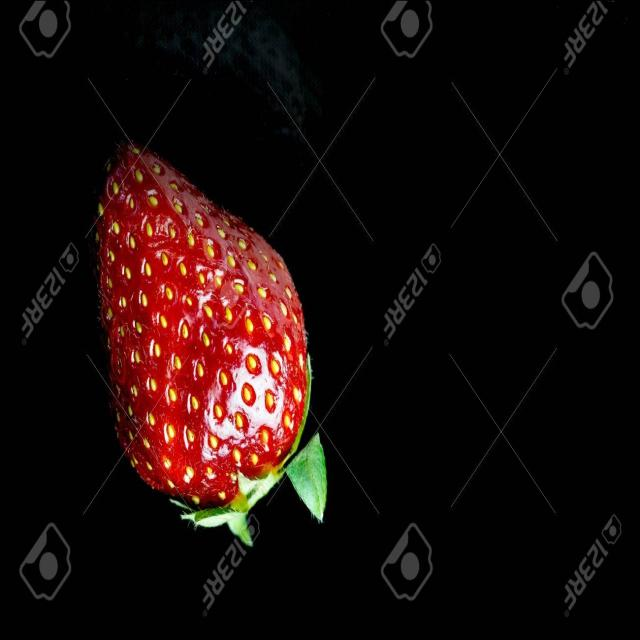strawberry: (87, 127, 328, 568)
